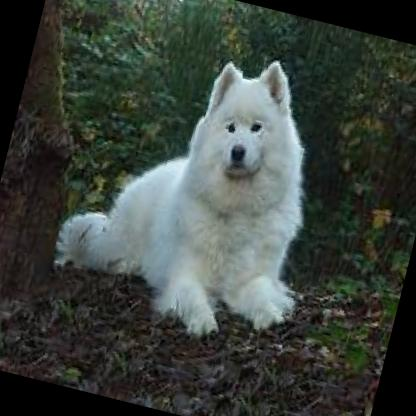Samoyed: (37, 11, 354, 358)
